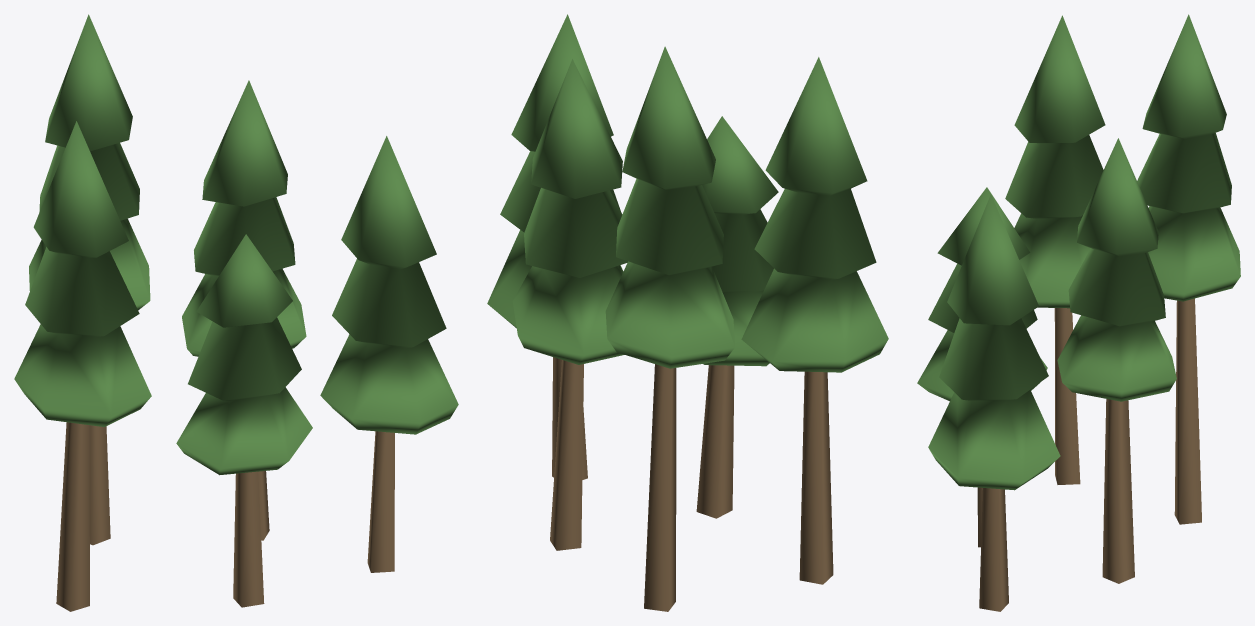
File: rpgpp_ag_trees_background_02b.fbx
3 views of the same model, side by side, from view 1: azimuth 30°, elevation 25°; view 2: azimuth 150°, elevation 25°; view 3: azimuth 270°, elevation 25° (orthographic). The views are drawn at different scales.
Parts seen in each view (by area): view 1: rpgpp_ag_trees_background_02b; view 2: rpgpp_ag_trees_background_02b; view 3: rpgpp_ag_trees_background_02b.
Boxes of the visible parts, bbox=[...] form: rpgpp_ag_trees_background_02b: bbox=[14, 14, 458, 611]; rpgpp_ag_trees_background_02b: bbox=[487, 14, 888, 611]; rpgpp_ag_trees_background_02b: bbox=[917, 14, 1240, 611].
Bounding box in the file's own units: 9.67 × 12.76 × 7.45.
